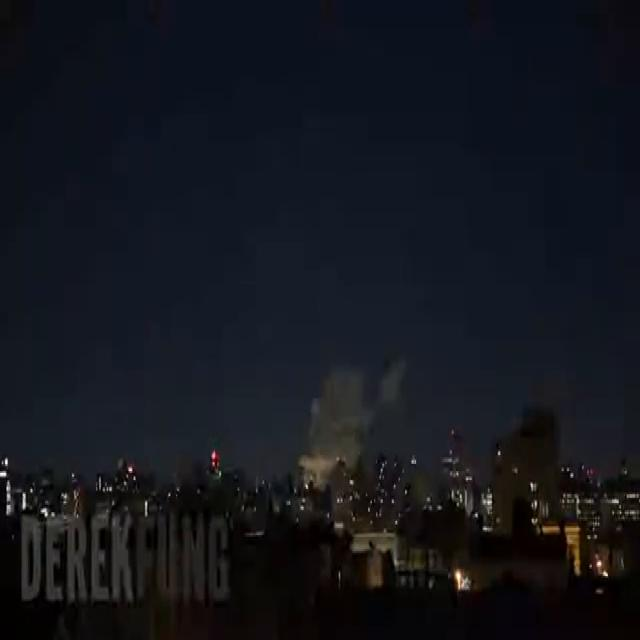smoke: (298, 366, 374, 485)
